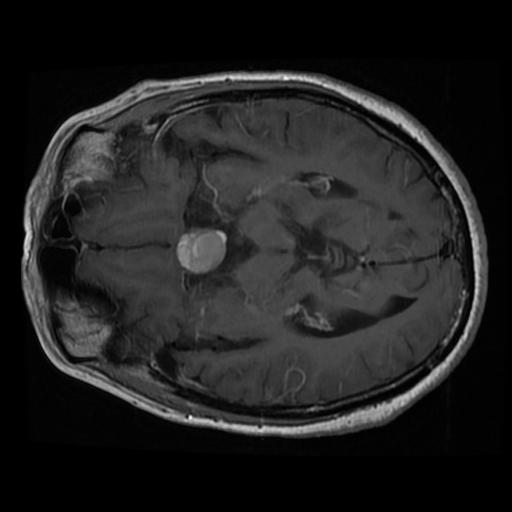pituitary tumour: (177, 228, 227, 274)
